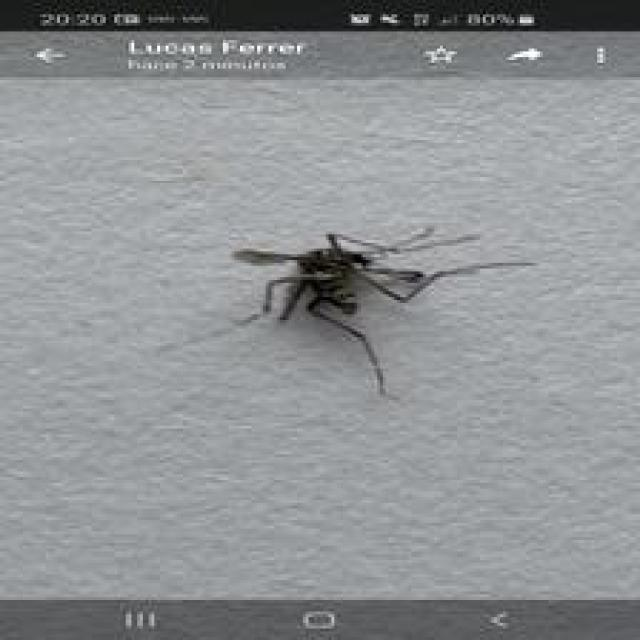Aedes albopictus: (230, 223, 536, 397)
